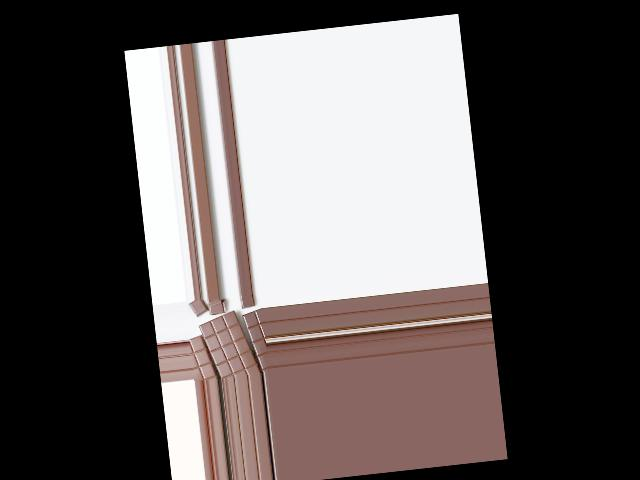chocolate: (196, 309, 258, 380)
